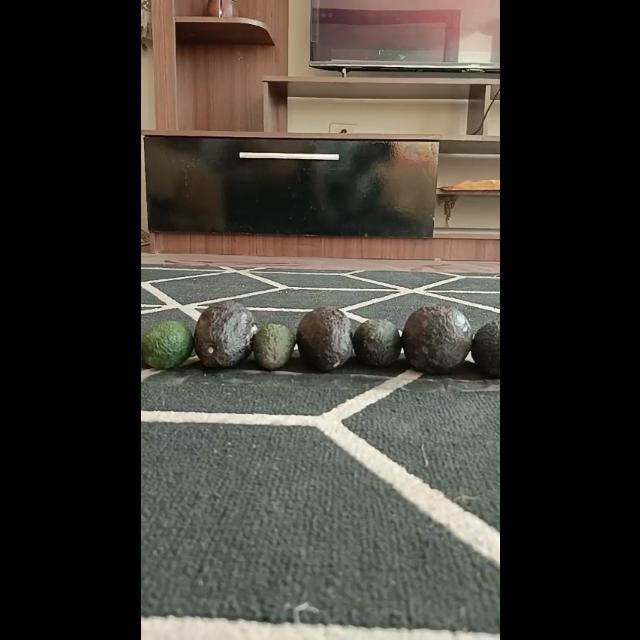Primera: (402, 303, 474, 373), (192, 300, 255, 368), (296, 306, 354, 370)
Segunda: (140, 320, 192, 370), (351, 318, 402, 368)
Tercera: (251, 322, 295, 370)
